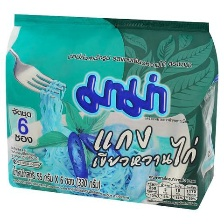snack: (0, 7, 224, 214)
